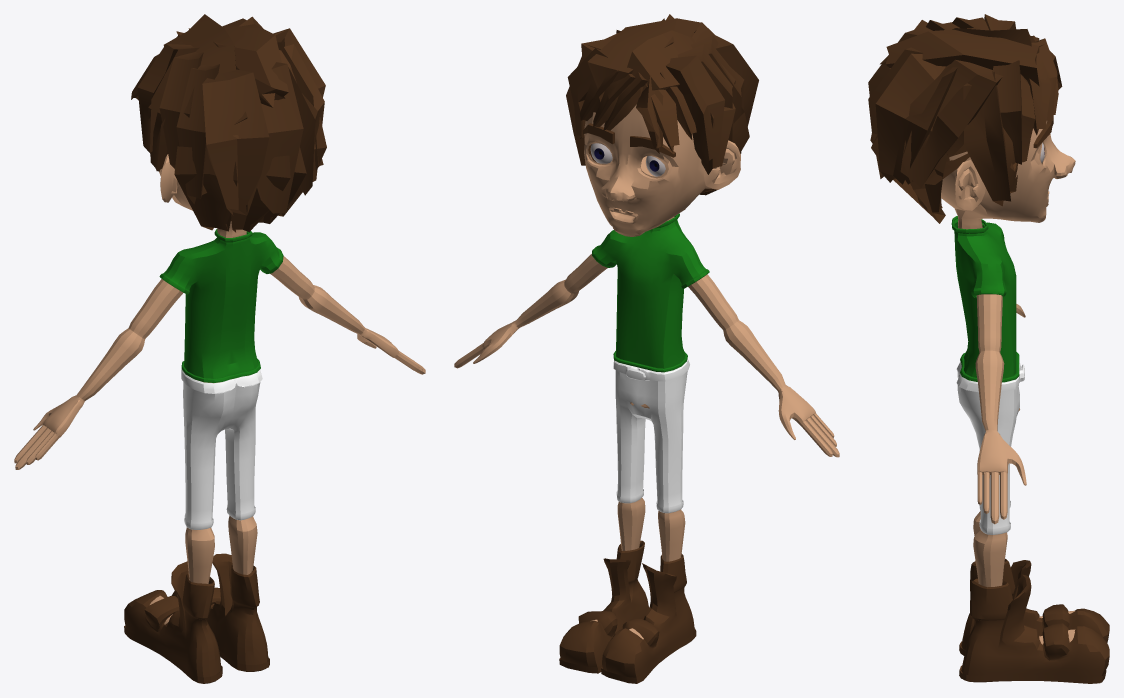
The model's file is boyfinal1withclothes.fbx.
3 renders of one model, left to right at view 1: azimuth 30°, elevation 25°; view 2: azimuth 150°, elevation 25°; view 3: azimuth 270°, elevation 25°, orthographic. The views are drawn at different scales.
Visible parts, largest first — view 1: menino_polySurface18_menino_polySurface68_menino_polySurface, body, tshirt, shorts, rightboot, leftboot, menino_polySurface18_menino_polySurface56_menino_polySurface, menino_polySurface18_menino_polySurface57_menino_polySurface, menino_polySurface18_menino_polySurface54_menino_polySurface, menino_polySurface18_menino_polySurface55_menino_polySurface, menino_polySurface18_menino_polySurface60_menino_polySurface; view 2: body, menino_polySurface18_menino_polySurface68_menino_polySurface, tshirt, shorts, rightboot, leftboot, menino_polySurface18_menino_polySurface54_menino_polySurface, menino_polySurface18_menino_polySurface55_menino_polySurface, menino_polySurface18_menino_polySurface59_menino_polySurface, menino_polySurface18_menino_polySurface61_menino_polySurface; view 3: menino_polySurface18_menino_polySurface68_menino_polySurface, body, leftboot, tshirt, shorts, rightboot, menino_polySurface18_menino_polySurface69_menino_polySurface, menino_polySurface18_menino_polySurface54_menino_polySurface, menino_polySurface18_menino_polySurface67_menino_polySurface.
Boxes of the visible parts, left/top/right/bottom form: menino_polySurface18_menino_polySurface68_menino_polySurface: left=131, top=14, right=326, bottom=232; body: left=14, top=154, right=425, bottom=624; tshirt: left=159, top=229, right=283, bottom=382; shorts: left=181, top=369, right=262, bottom=529; rightboot: left=124, top=561, right=222, bottom=683; leftboot: left=171, top=553, right=269, bottom=671; menino_polySurface18_menino_polySurface56_menino_polySurface: left=202, top=69, right=267, bottom=214; menino_polySurface18_menino_polySurface57_menino_polySurface: left=261, top=67, right=303, bottom=163; menino_polySurface18_menino_polySurface54_menino_polySurface: left=215, top=19, right=285, bottom=101; menino_polySurface18_menino_polySurface55_menino_polySurface: left=191, top=15, right=246, bottom=138; menino_polySurface18_menino_polySurface60_menino_polySurface: left=160, top=52, right=203, bottom=167; body: left=454, top=104, right=839, bottom=639; menino_polySurface18_menino_polySurface68_menino_polySurface: left=566, top=14, right=758, bottom=195; tshirt: left=592, top=213, right=709, bottom=372; shorts: left=613, top=359, right=689, bottom=513; rightboot: left=601, top=553, right=696, bottom=683; leftboot: left=559, top=540, right=648, bottom=673; menino_polySurface18_menino_polySurface54_menino_polySurface: left=587, top=18, right=700, bottom=84; menino_polySurface18_menino_polySurface55_menino_polySurface: left=650, top=31, right=694, bottom=89; menino_polySurface18_menino_polySurface59_menino_polySurface: left=670, top=56, right=724, bottom=143; menino_polySurface18_menino_polySurface61_menino_polySurface: left=646, top=84, right=679, bottom=149; menino_polySurface18_menino_polySurface68_menino_polySurface: left=868, top=14, right=1062, bottom=223; body: left=941, top=121, right=1075, bottom=644; leftboot: left=959, top=574, right=1109, bottom=683; tshirt: left=951, top=216, right=1019, bottom=382; shorts: left=956, top=362, right=1024, bottom=534; rightboot: left=959, top=558, right=1109, bottom=655; menino_polySurface18_menino_polySurface69_menino_polySurface: left=901, top=62, right=1001, bottom=183; menino_polySurface18_menino_polySurface54_menino_polySurface: left=880, top=28, right=1038, bottom=83; menino_polySurface18_menino_polySurface67_menino_polySurface: left=993, top=61, right=1035, bottom=163.
Bounding box in the file's own units: 145 × 216 × 74.04.
